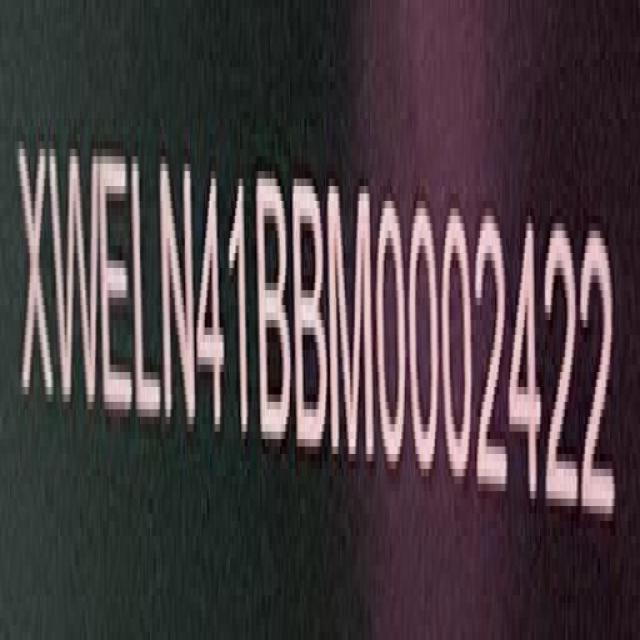0: (376, 192, 410, 477), (443, 212, 475, 493), (410, 205, 440, 482)
1: (230, 168, 252, 451)
2: (584, 230, 616, 528), (544, 224, 576, 521), (477, 213, 508, 500)
4: (511, 213, 542, 512), (198, 164, 228, 444)
B: (290, 173, 330, 459), (257, 172, 293, 454)
E: (100, 146, 133, 430)
L: (135, 151, 163, 434)
M: (326, 183, 374, 471)
N: (160, 146, 197, 438)
W: (50, 135, 100, 427)
X: (18, 131, 52, 424)
